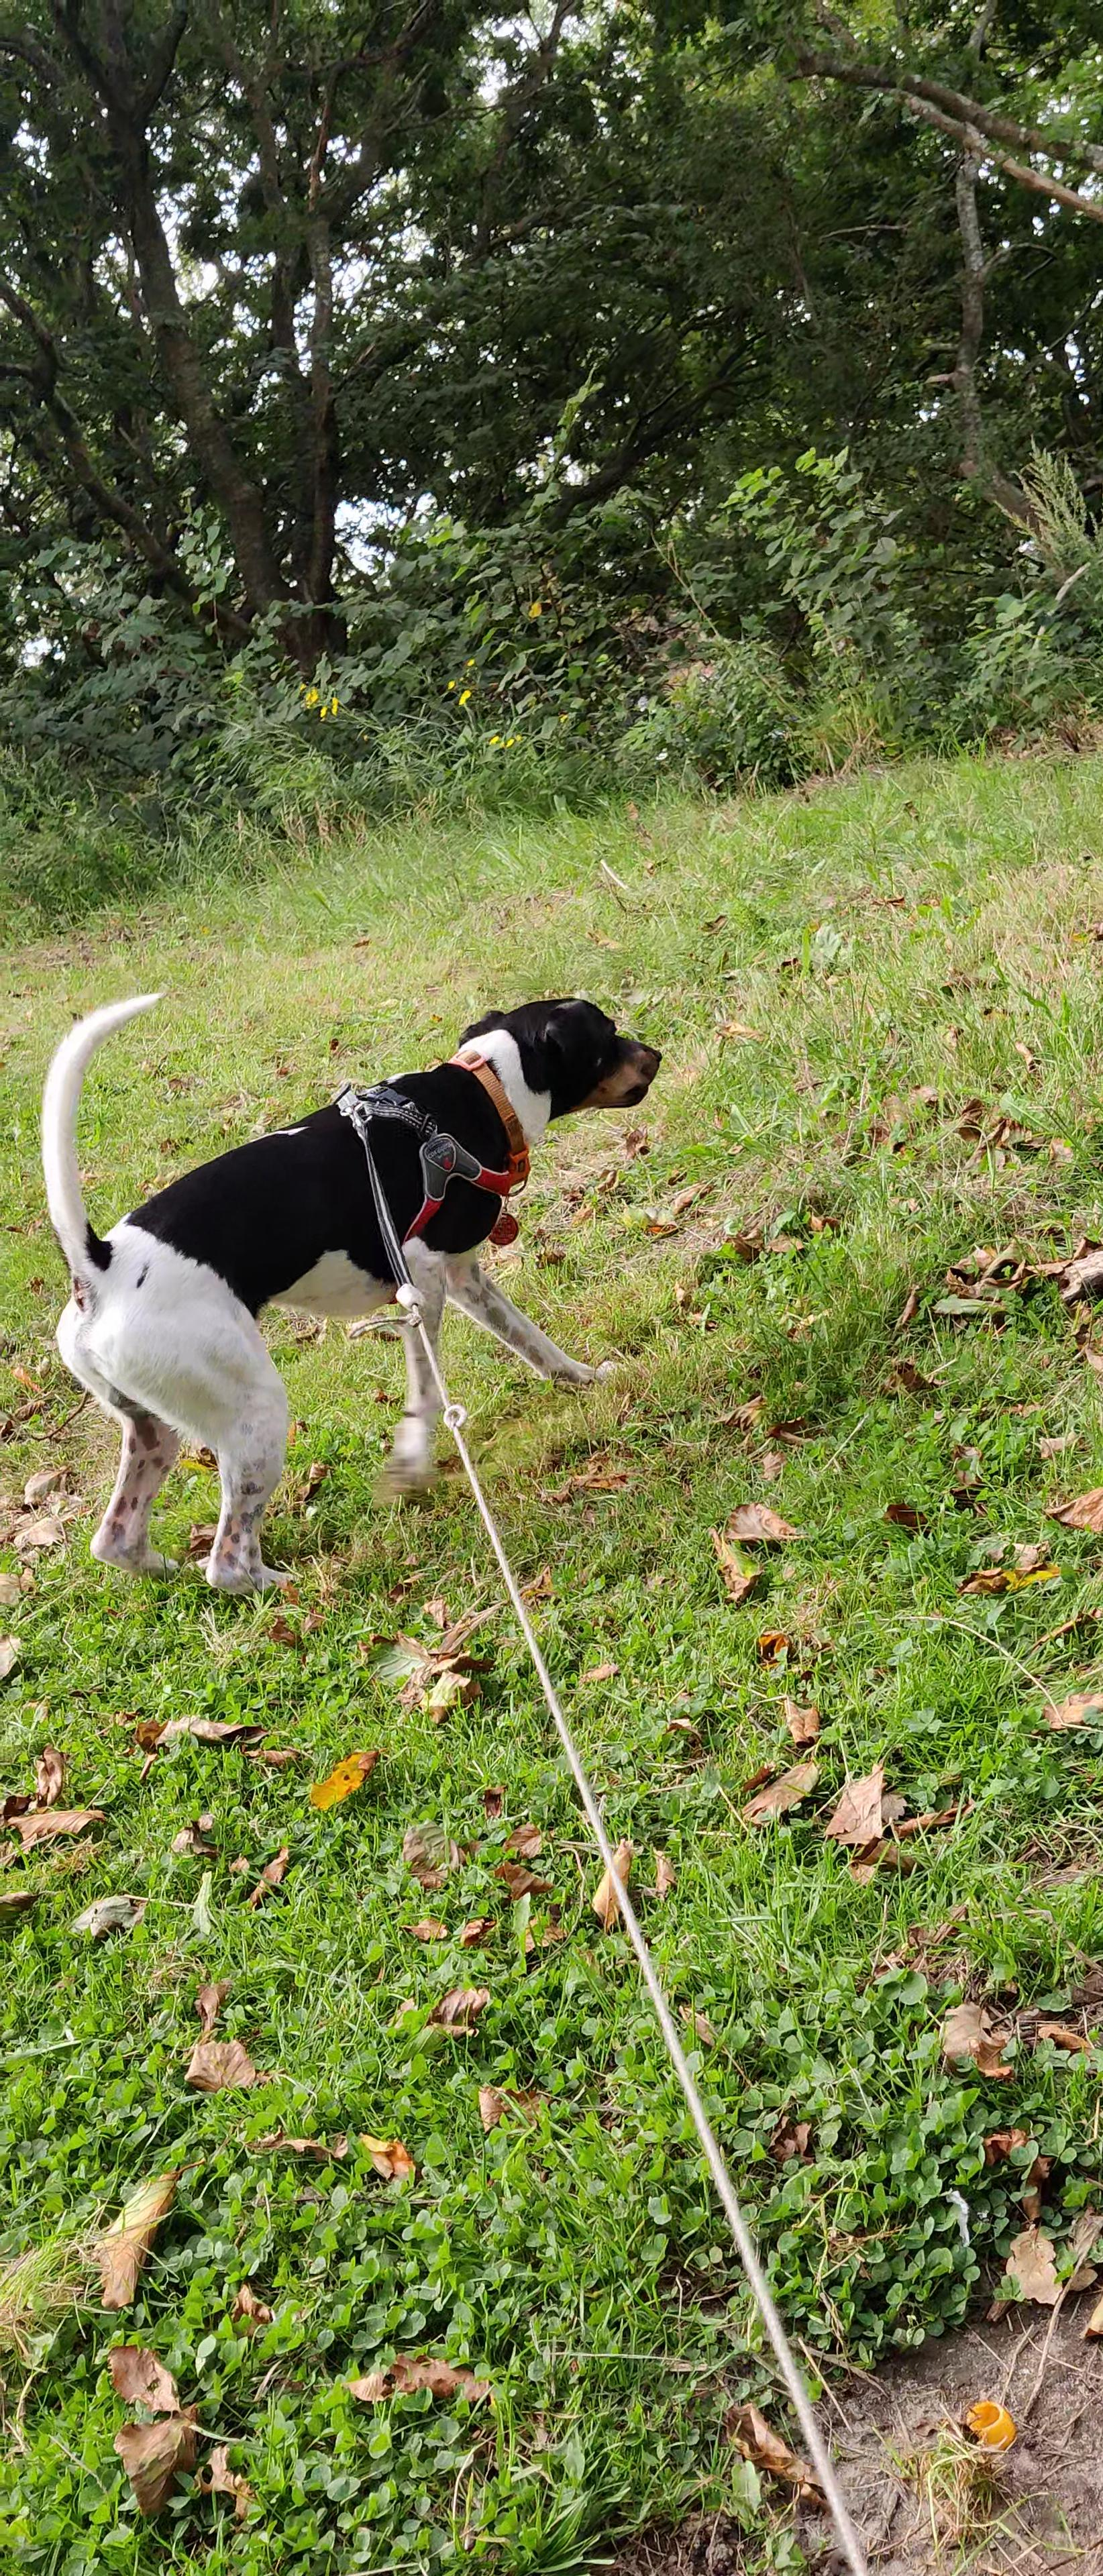Dog: (8, 945, 674, 1621)
